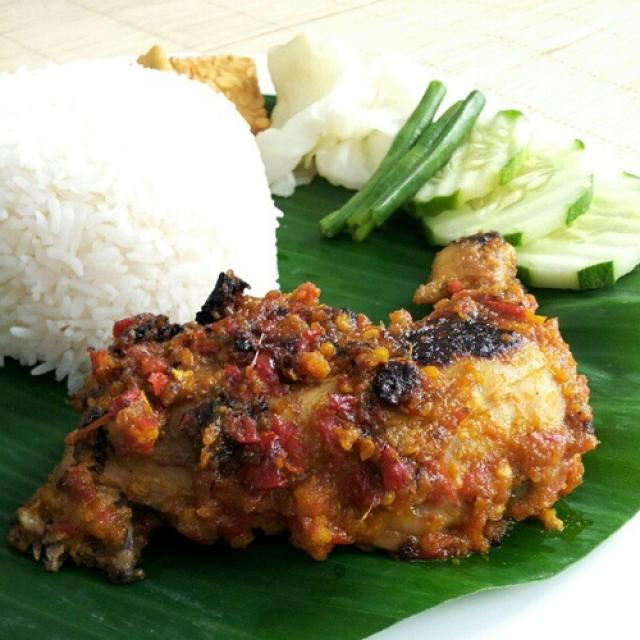鸡肉料理 含炸鸡: (15, 45, 588, 604)
